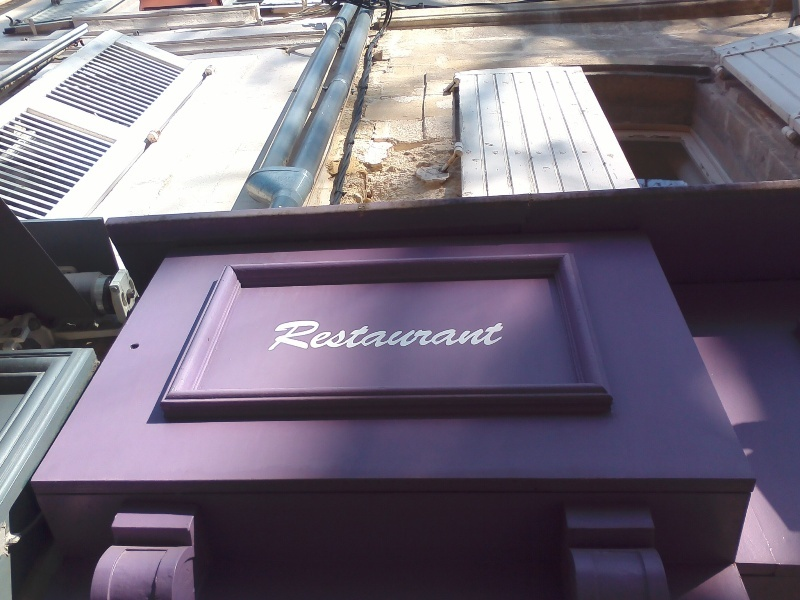text: (289, 320, 304, 352), (305, 320, 320, 352), (321, 320, 336, 352), (337, 320, 352, 352), (353, 320, 368, 352), (369, 320, 384, 352), (385, 320, 400, 352), (401, 320, 416, 352), (417, 320, 432, 352), (433, 320, 448, 352), (449, 320, 464, 352), (465, 320, 480, 352), (481, 320, 496, 352), (276, 320, 288, 352), (497, 320, 508, 352)
